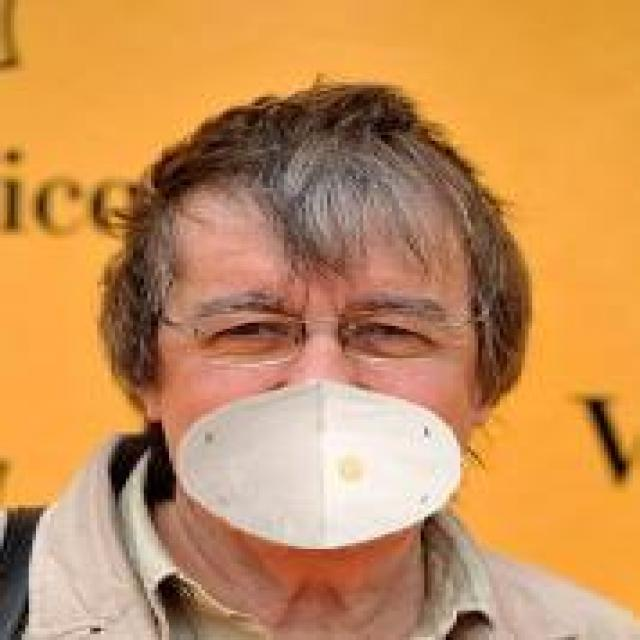mask: (82, 62, 536, 596)
